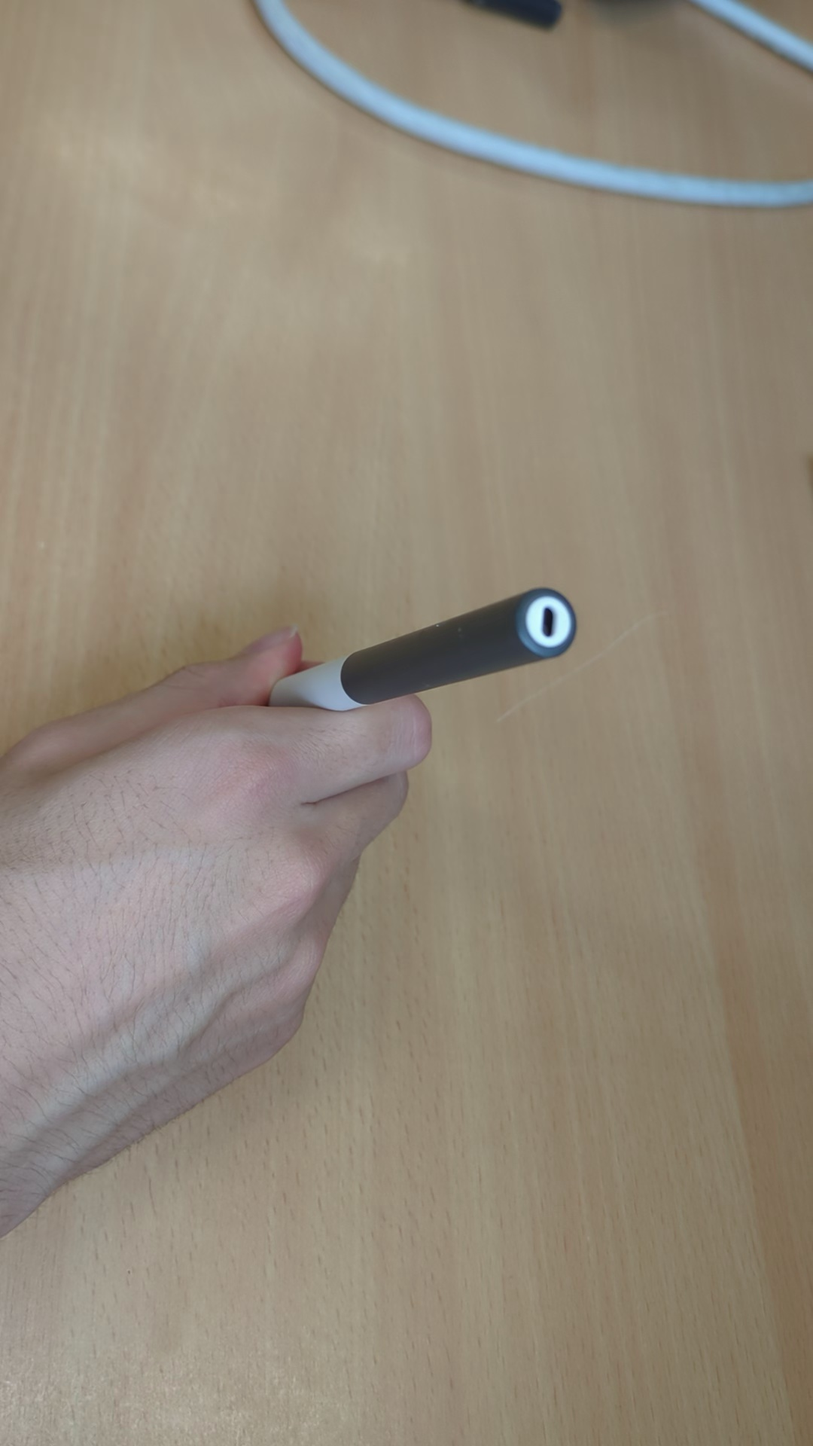pen: (261, 584, 585, 714)
